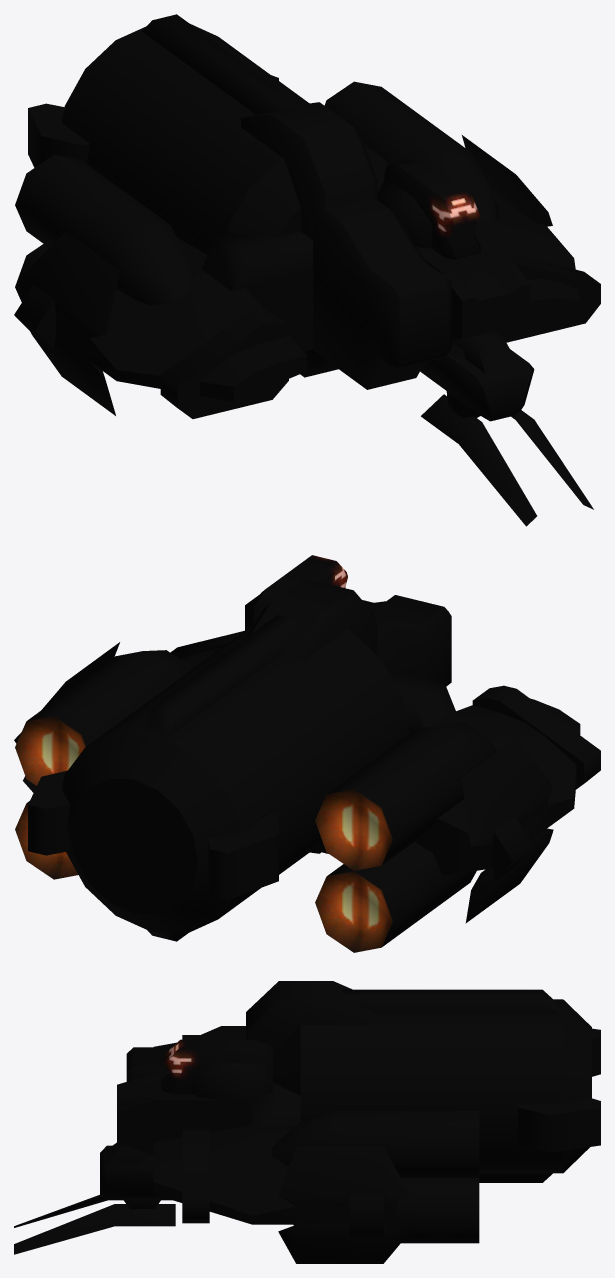
The model's file is ama_assault_corvette_01.glb.
The picture shows the model from 3 angles, top to bottom: view 1: azimuth 30°, elevation 25°; view 2: azimuth 150°, elevation 25°; view 3: azimuth 270°, elevation 25°; orthographic projection. The views are drawn at different scales.
Visible parts, largest first — view 1: ama_assault_corvette_01_LOD0; view 2: ama_assault_corvette_01_LOD0; view 3: ama_assault_corvette_01_LOD0.
Boxes of the visible parts, x1,y1,x2,y2 form: ama_assault_corvette_01_LOD0: (14, 14, 600, 526); ama_assault_corvette_01_LOD0: (14, 555, 600, 952); ama_assault_corvette_01_LOD0: (14, 981, 600, 1263).
Size of what is drawn, in the model's own units: 0.7131 by 0.3827 by 0.9052.
1 material, 1 textured.
